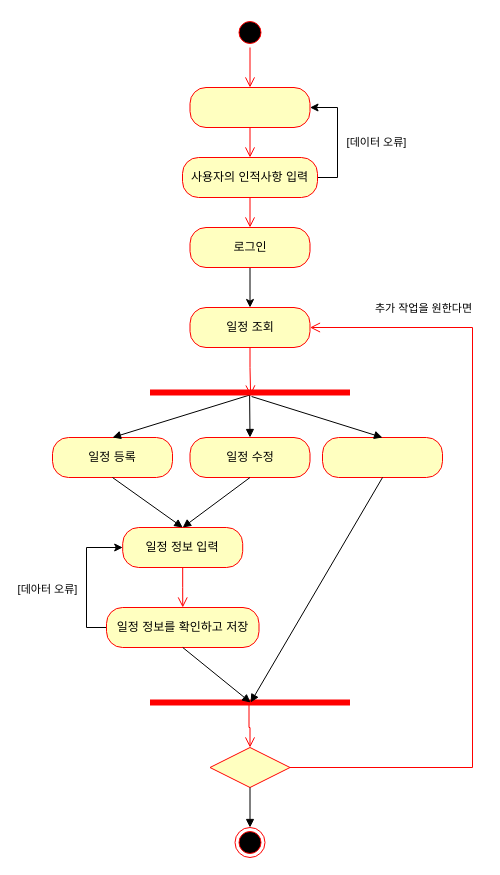
The diagram is 500 pixels wide and 875 high, and some of its shapes have lost their labels. The shapes that lost their labels are listed below. From the top down, each one's box as (x1, y1, x2, y2) in pixels, then its label:
(189, 86, 310, 128): 회원가입
(322, 436, 442, 478): 일정 삭제
(209, 746, 290, 788): 종료
